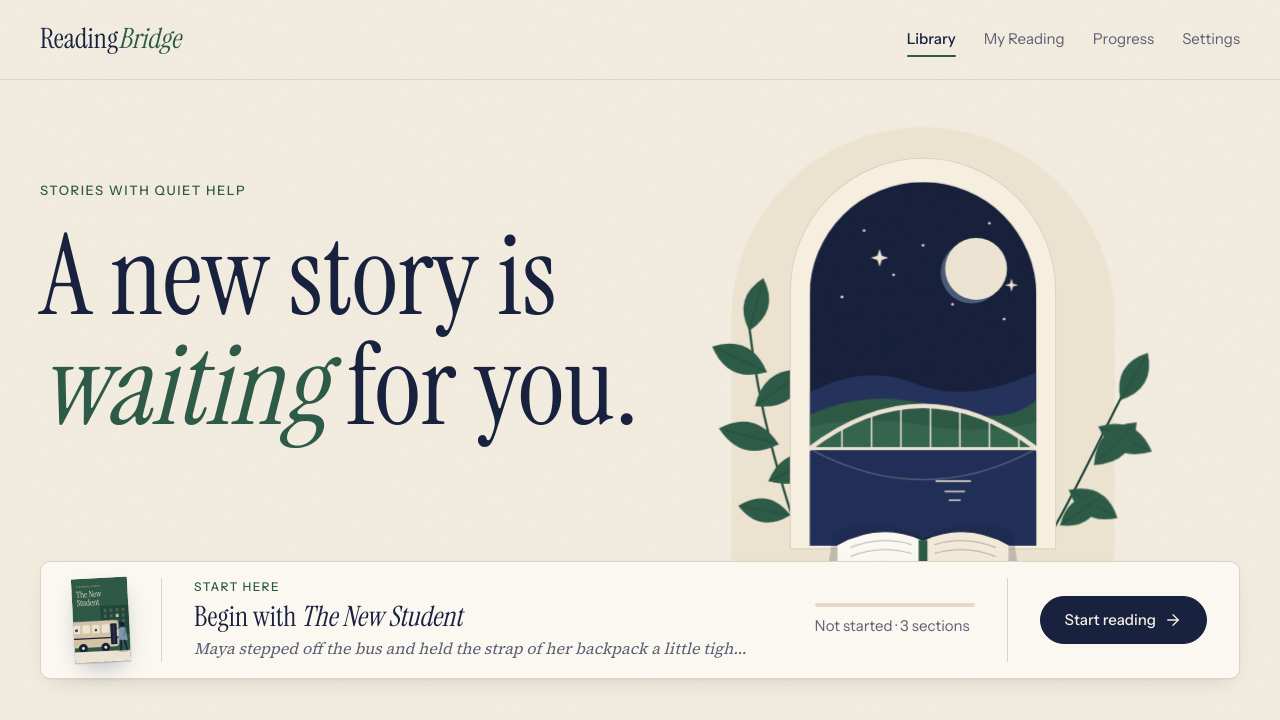
Test: navigation › navigates between pages and marks the current item
Click the link "Progress": (1123, 39) [1093,24,1154,54]
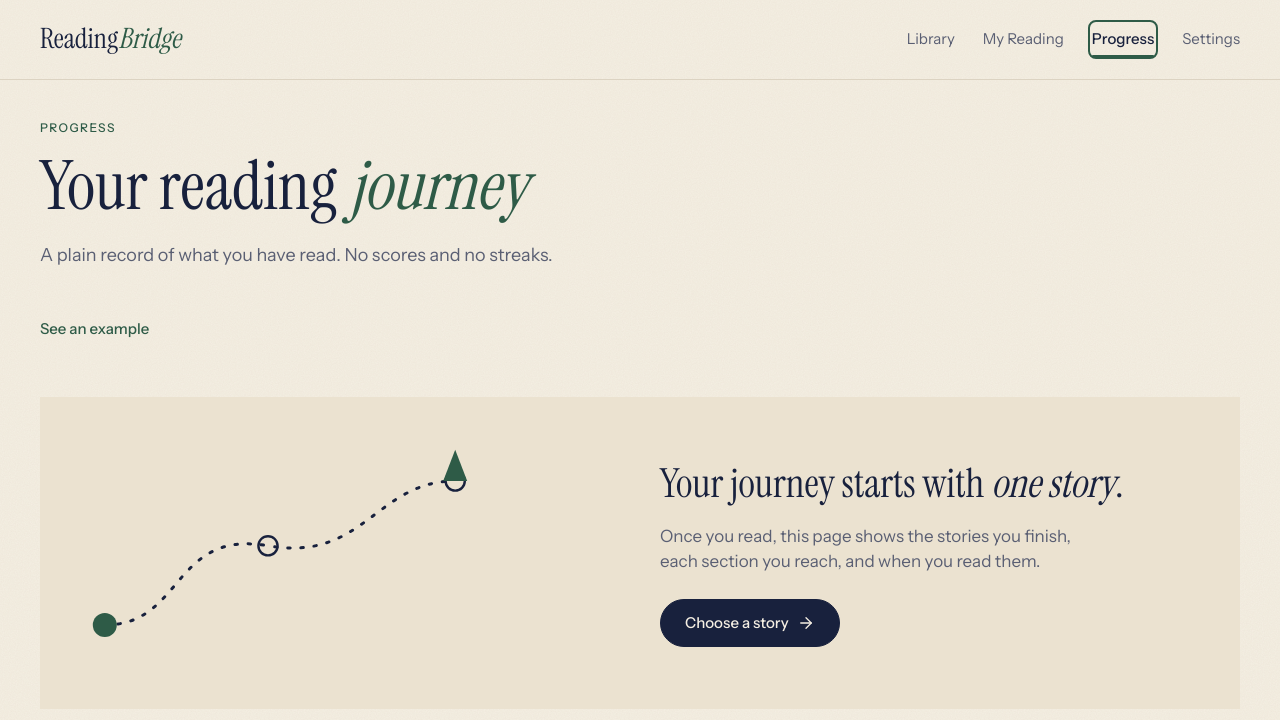
Now the heading "Your reading journey" is shown, box [40,142,527,230]
